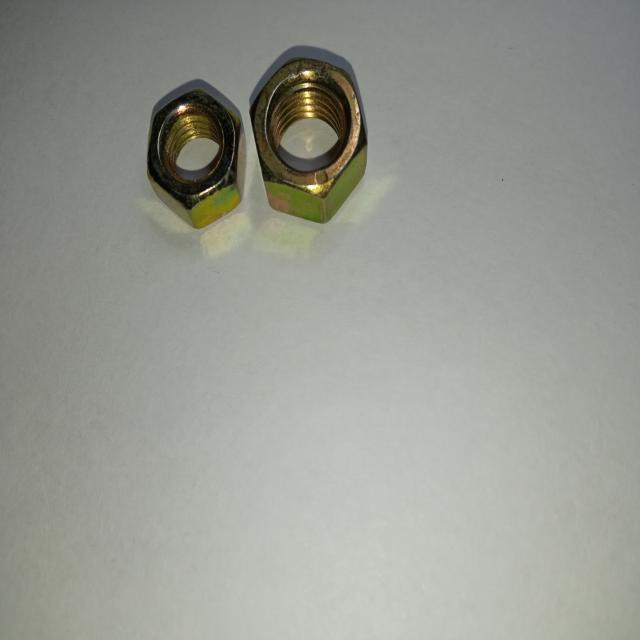m10: (252, 58, 369, 206)
m8: (148, 85, 241, 224)
